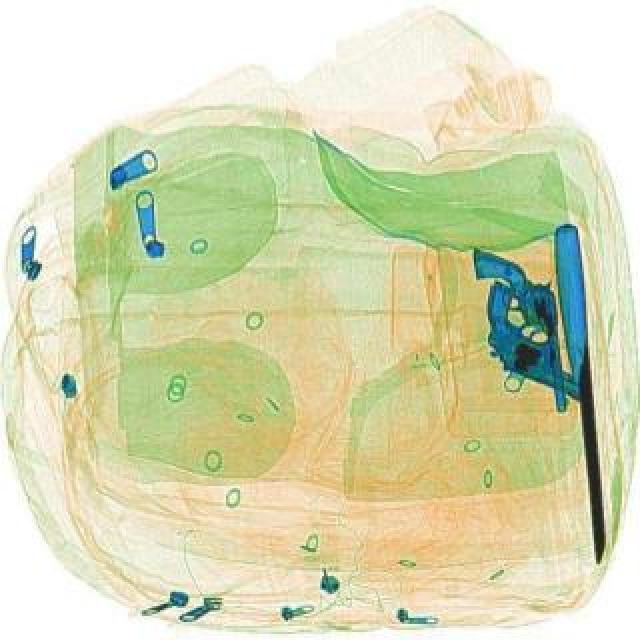gun: (458, 278, 622, 404), (474, 240, 570, 420)
knife: (552, 220, 616, 560)
